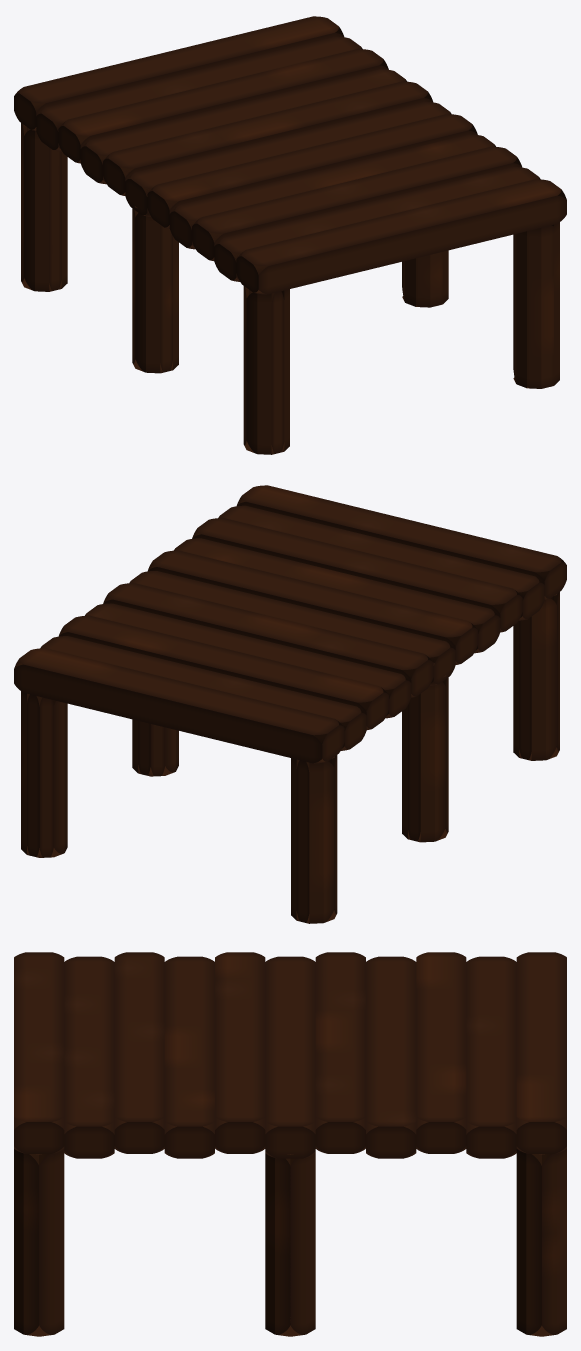
File: Docks.dae
The picture shows the model from 3 angles, top to bottom: view 1: azimuth 30°, elevation 25°; view 2: azimuth 150°, elevation 25°; view 3: azimuth 270°, elevation 25°; orthographic projection. The views are drawn at different scales.
Visible parts, largest first — view 1: cuboid (×11), cylinder (×5); view 2: cuboid (×11), cylinder (×5); view 3: cuboid (×11), cylinder (×3).
Part boxes in pixels (x1=…): cuboid (×11): x1=14, y1=16, x2=566, y2=294; cylinder (×5): x1=21, y1=123, x2=559, y2=454; cuboid (×11): x1=14, y1=485, x2=566, y2=763; cylinder (×5): x1=21, y1=592, x2=559, y2=923; cuboid (×11): x1=14, y1=952, x2=566, y2=1158; cylinder (×3): x1=14, y1=1147, x2=566, y2=1336.
Bounding box in the file's own units: 0.5032 × 0.2937 × 0.6875.
Materials: 1 (1 with a texture image).
